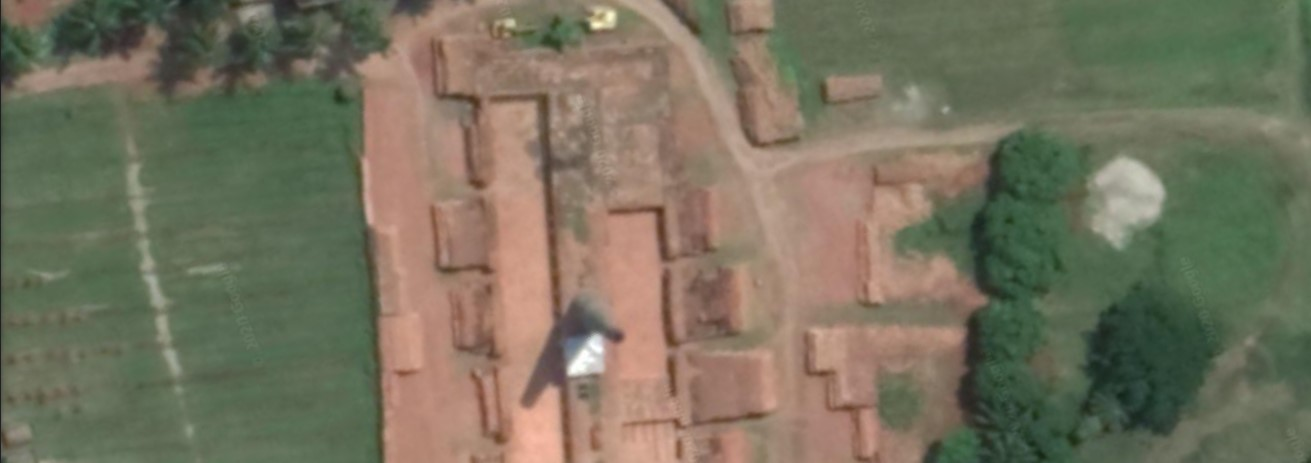kiln: (426, 20, 780, 459)
